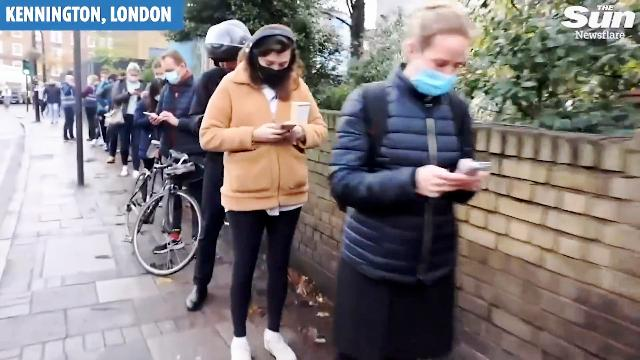berdiri: (326, 0, 499, 360), (204, 22, 320, 360)
